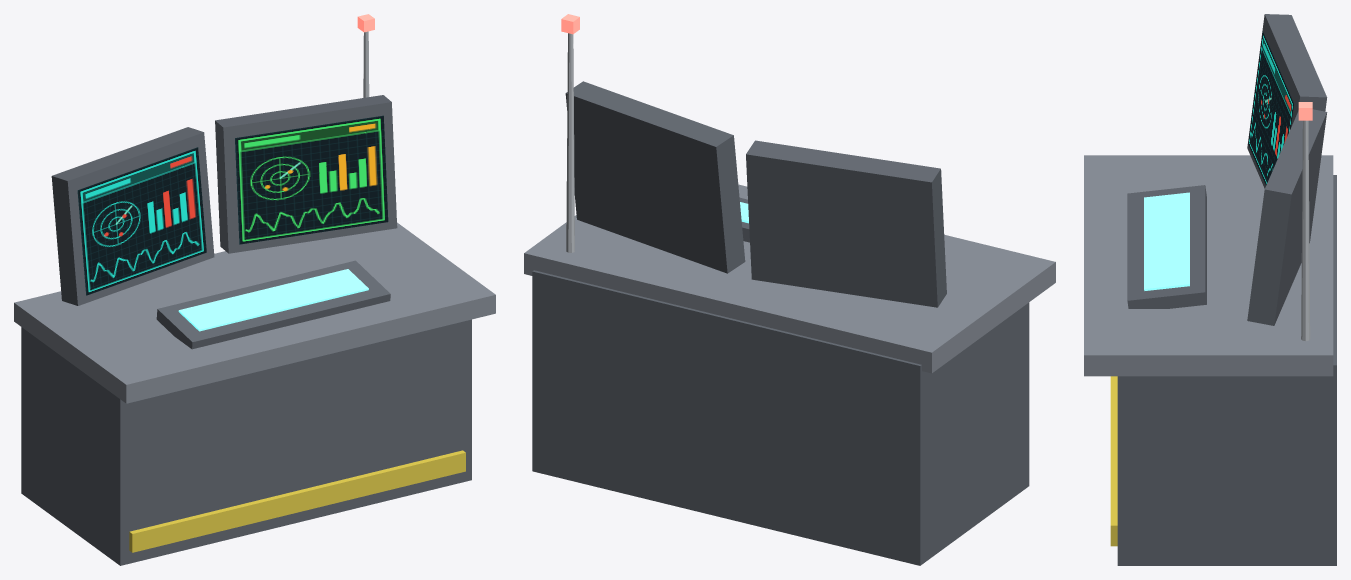
The model's file is prop_command_terminal.glb.
3 renders of one model, left to right at view 1: azimuth 30°, elevation 25°; view 2: azimuth 150°, elevation 25°; view 3: azimuth 270°, elevation 25°, orthographic. The views are drawn at different scales.
Visible parts, largest first — view 1: PropCommandTerminal; view 2: PropCommandTerminal; view 3: PropCommandTerminal.
Part boxes in pixels (left/top/right/bottom): PropCommandTerminal: left=14, top=14, right=495, bottom=565; PropCommandTerminal: left=524, top=14, right=1055, bottom=565; PropCommandTerminal: left=1084, top=14, right=1336, bottom=565.
Bounding box in the file's own units: 2.05 × 2.15 × 1.09.
8 materials, 2 textured.
